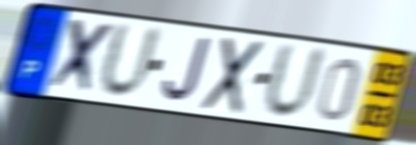0: (314, 56, 366, 123)
J: (160, 36, 213, 106)
U: (261, 39, 330, 123), (96, 19, 165, 103)
X: (43, 16, 117, 99), (197, 34, 268, 117)
